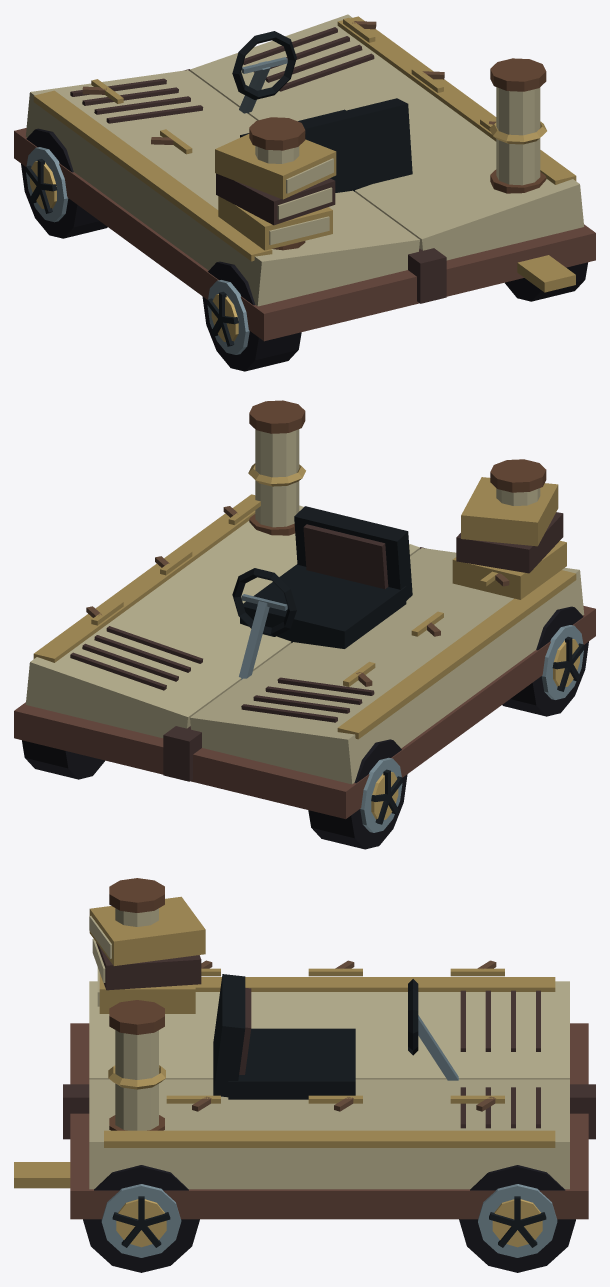
The model's file is kart.glb.
The picture shows the model from 3 angles, top to bottom: view 1: azimuth 30°, elevation 25°; view 2: azimuth 150°, elevation 25°; view 3: azimuth 270°, elevation 25°; orthographic projection. The views are drawn at different scales.
Visible parts, largest first — view 1: identity-book-book-open-pages-and-spine, identity-book-motif-books, identity-book-driver-cockpit, identity-book-motif-scrolls, wheel-rear-left, wheel-front-left, identity-book-motif-runes, wheel-rear-right; view 2: identity-book-book-open-pages-and-spine, identity-book-driver-cockpit, identity-book-motif-books, identity-book-motif-scrolls, wheel-front-left, wheel-rear-left, identity-book-motif-runes, wheel-front-right; view 3: identity-book-book-open-pages-and-spine, identity-book-driver-cockpit, identity-book-motif-books, identity-book-motif-scrolls, wheel-front-right, wheel-rear-right, identity-book-motif-runes.
Boxes of the visible parts, bbox=[...] form: identity-book-book-open-pages-and-spine: bbox=[14, 14, 595, 341]; identity-book-motif-books: bbox=[215, 134, 336, 250]; identity-book-driver-cockpit: bbox=[232, 31, 412, 192]; identity-book-motif-scrolls: bbox=[249, 58, 546, 250]; wheel-rear-left: bbox=[202, 261, 301, 371]; wheel-front-left: bbox=[21, 128, 107, 238]; identity-book-motif-runes: bbox=[82, 17, 495, 154]; wheel-rear-right: bbox=[505, 262, 587, 301]; identity-book-book-open-pages-and-spine: bbox=[14, 494, 595, 819]; identity-book-driver-cockpit: bbox=[232, 506, 412, 679]; identity-book-motif-books: bbox=[452, 477, 566, 599]; identity-book-motif-scrolls: bbox=[248, 400, 546, 535]; wheel-front-left: bbox=[308, 739, 407, 849]; wheel-rear-left: bbox=[502, 606, 588, 716]; identity-book-motif-runes: bbox=[86, 500, 509, 686]; wheel-front-right: bbox=[22, 740, 104, 779]; identity-book-book-open-pages-and-spine: bbox=[14, 977, 595, 1219]; identity-book-driver-cockpit: bbox=[213, 974, 458, 1099]; identity-book-motif-books: bbox=[89, 896, 205, 1013]; identity-book-motif-scrolls: bbox=[108, 878, 165, 1130]; wheel-front-right: bbox=[459, 1165, 575, 1272]; wheel-rear-right: bbox=[83, 1165, 199, 1272]; identity-book-motif-runes: bbox=[166, 960, 504, 1111].
Bounding box in the file's own units: 2.01 × 1.26 × 2.78.
